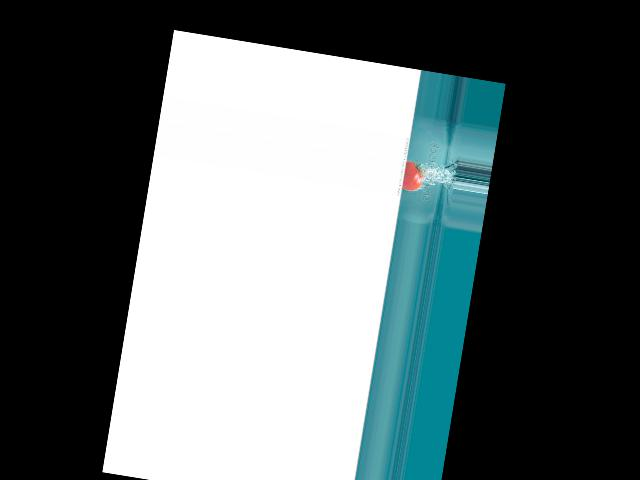tomato: (401, 160, 425, 192)
